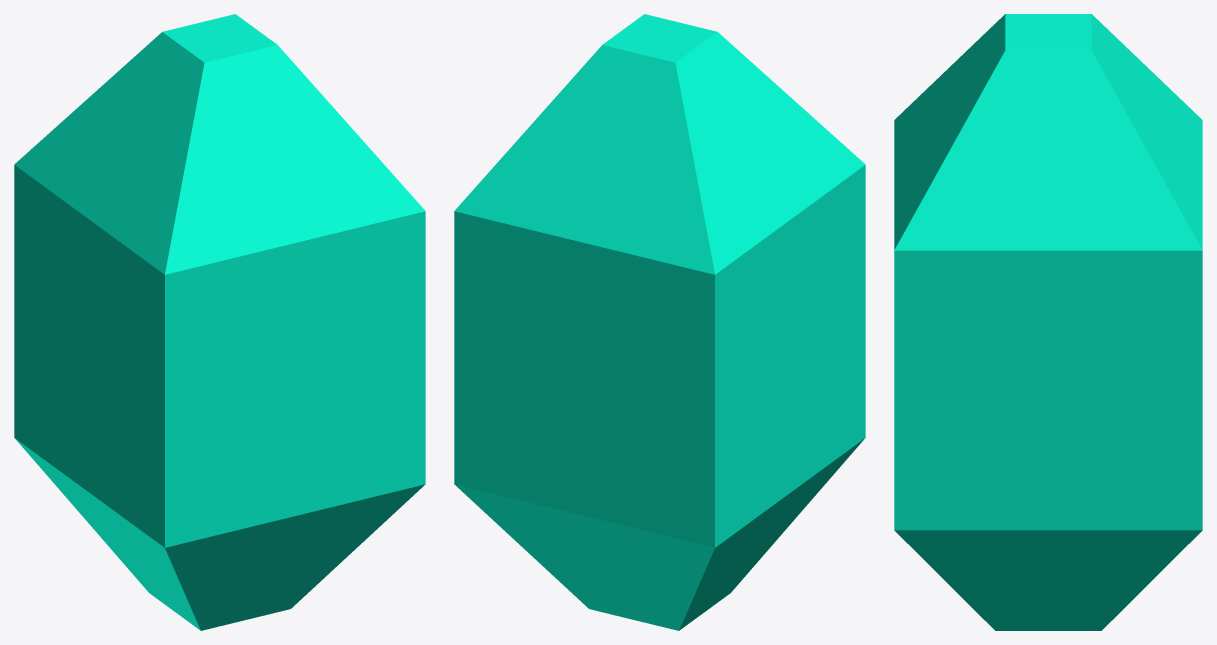
Rendered from gem.glb.
3 renders of one model, left to right at view 1: azimuth 30°, elevation 25°; view 2: azimuth 150°, elevation 25°; view 3: azimuth 270°, elevation 25°, orthographic. The views are drawn at different scales.
Visible parts, largest first — view 1: Cube; view 2: Cube; view 3: Cube.
Part boxes in pixels (x1,y1,x2,y2): Cube: [14, 14, 425, 630]; Cube: [454, 14, 865, 630]; Cube: [894, 14, 1202, 630].
Bounding box in the file's own units: 0.3331 × 0.6864 × 0.3331.
